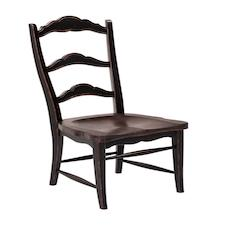chair: (18, 7, 197, 226)
